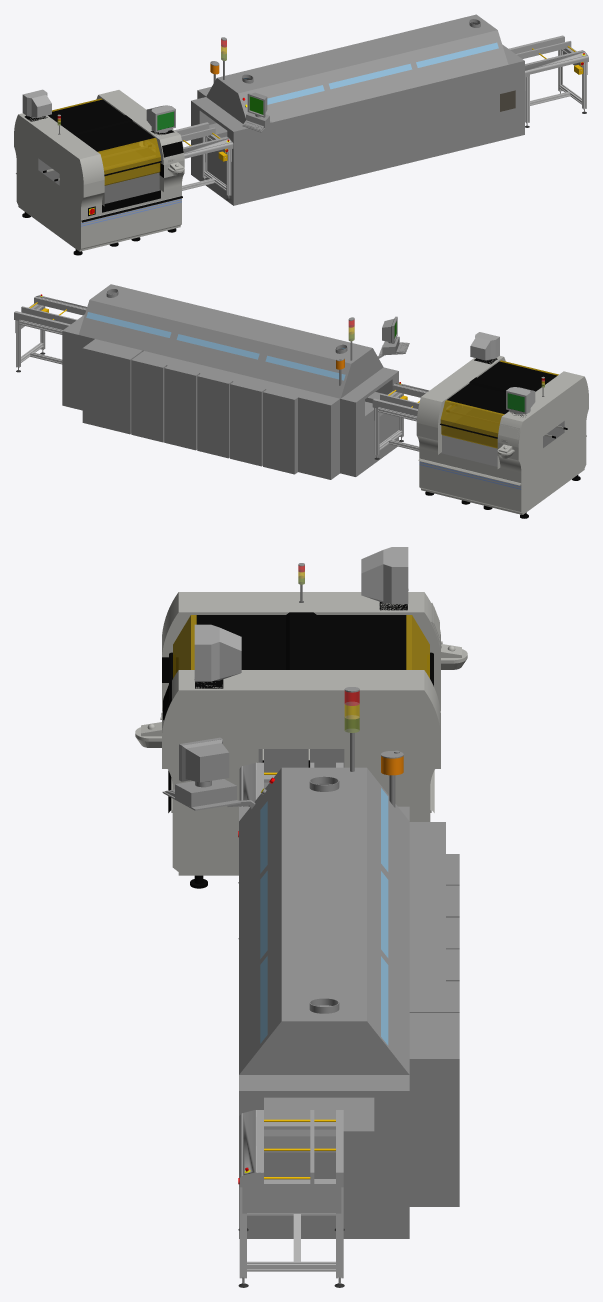
File: pcb_machone_part_2.gltf
3 views of the same model, one above another, from view 1: azimuth 30°, elevation 25°; view 2: azimuth 150°, elevation 25°; view 3: azimuth 270°, elevation 25° (orthographic). The views are drawn at different scales.
Parts seen in each view (by area): view 1: Object_29, Object_18, Object_28, Object_30, Object_31, Object_11, Object_8, Object_17, Object_22; view 2: Object_29, Object_18, Object_28, Object_30, Object_31, Object_11, Object_8, Object_22, Object_19; view 3: Object_29, Object_18, Object_28, Object_30, Object_8, Object_11, Object_31, Object_22, Object_17.
Boxes of the visible parts, x1,y1,x2,y2 form: Object_29: (57, 14, 524, 205); Object_18: (14, 90, 184, 251); Object_28: (22, 35, 588, 161); Object_30: (48, 99, 161, 176); Object_31: (52, 98, 160, 185); Object_11: (182, 49, 586, 196); Object_8: (244, 42, 498, 104); Object_17: (22, 111, 183, 255); Object_22: (38, 133, 160, 203); Object_29: (62, 284, 544, 479); Object_18: (416, 356, 588, 514); Object_28: (14, 295, 535, 420); Object_30: (440, 361, 557, 438); Object_31: (440, 360, 558, 448); Object_11: (16, 305, 419, 455); Object_8: (86, 312, 345, 380); Object_22: (441, 396, 564, 466); Object_19: (419, 462, 521, 489); Object_29: (162, 563, 459, 1238); Object_18: (135, 592, 467, 875); Object_28: (194, 547, 408, 1213); Object_30: (169, 612, 433, 686); Object_8: (260, 788, 388, 1045); Object_11: (239, 782, 343, 1278); Object_31: (173, 615, 429, 678); Object_22: (258, 601, 344, 772); Object_17: (162, 602, 407, 888).
Bounding box in the file's own units: 8.22 × 2.11 × 2.24.
